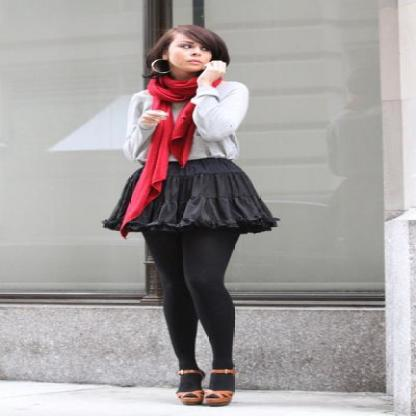shirt: (112, 81, 248, 171)
shoe: (159, 367, 250, 406)
skirt: (103, 158, 279, 245)
